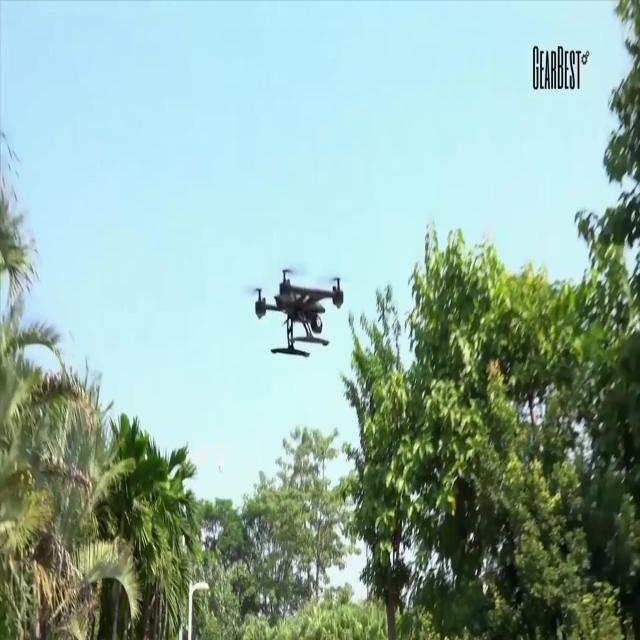drone: (254, 264, 344, 358)
